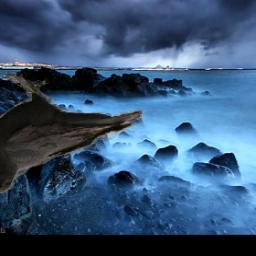Crow: (0, 72, 142, 193)
